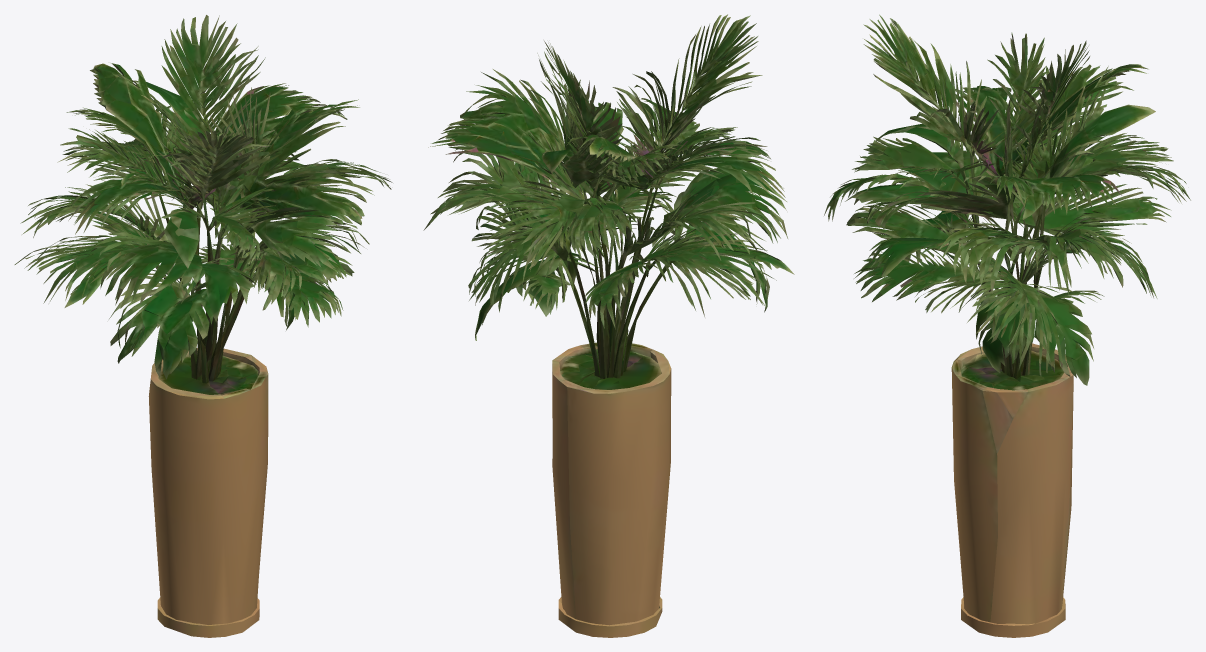
Rendered from mx_hh_planter.glb.
The picture shows the model from 3 angles, left to right: view 1: azimuth 30°, elevation 25°; view 2: azimuth 150°, elevation 25°; view 3: azimuth 270°, elevation 25°; orthographic projection. The views are drawn at different scales.
Size of the model in its own units: 1.17 by 1.89 by 1.08.
1 material, 1 textured.
